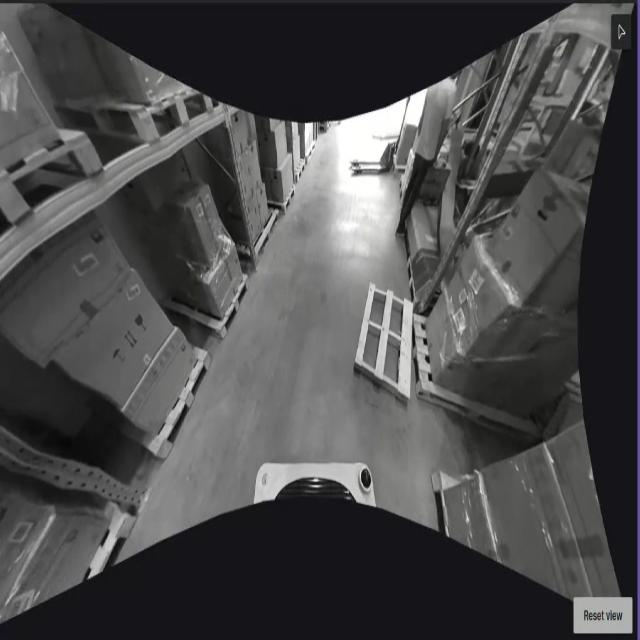Pallets-and-forklifts: (3, 127, 104, 227), (355, 282, 417, 409), (150, 346, 212, 467), (131, 85, 223, 146), (185, 277, 252, 343), (250, 209, 281, 274)
forlift: (350, 135, 394, 181)
